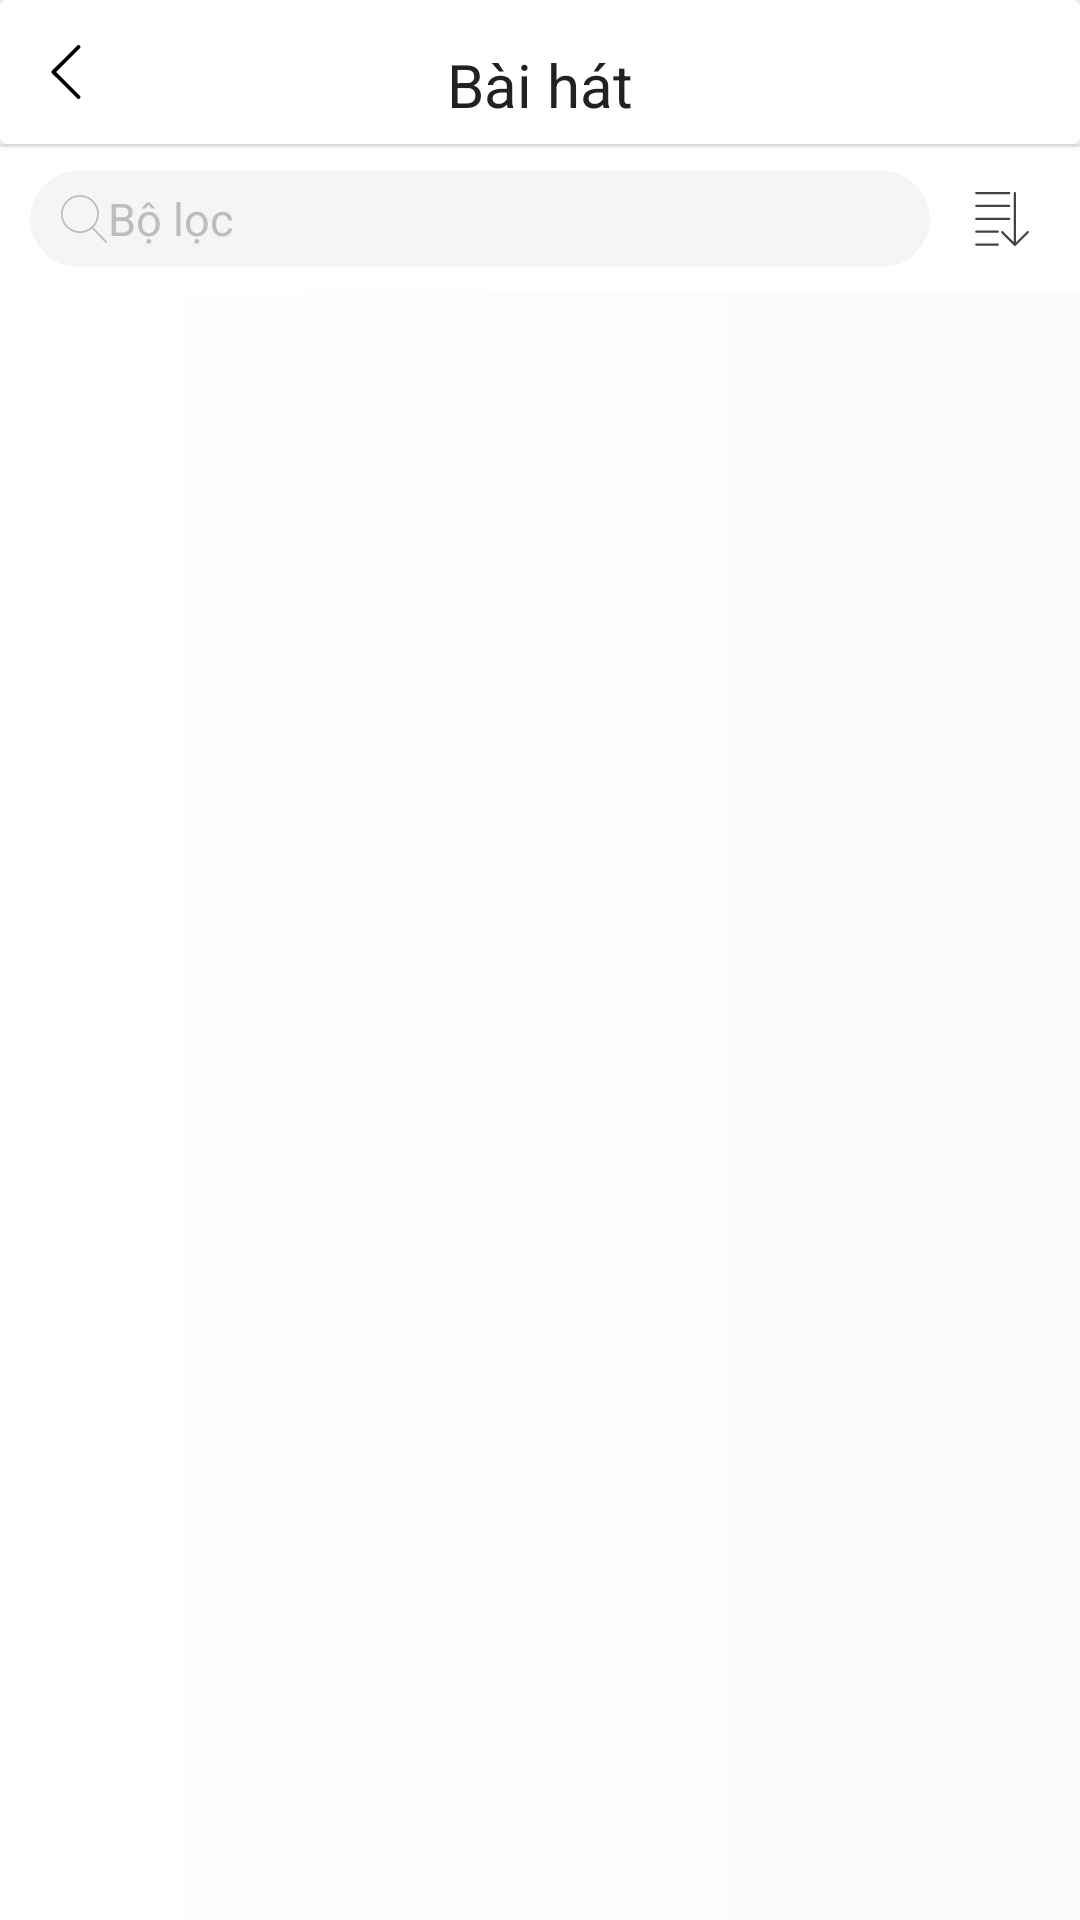

Where to tap for icons on this 1080w x 1920h app screen, as point (x, y):
back: point (66, 72)
sort: point (1002, 219)
